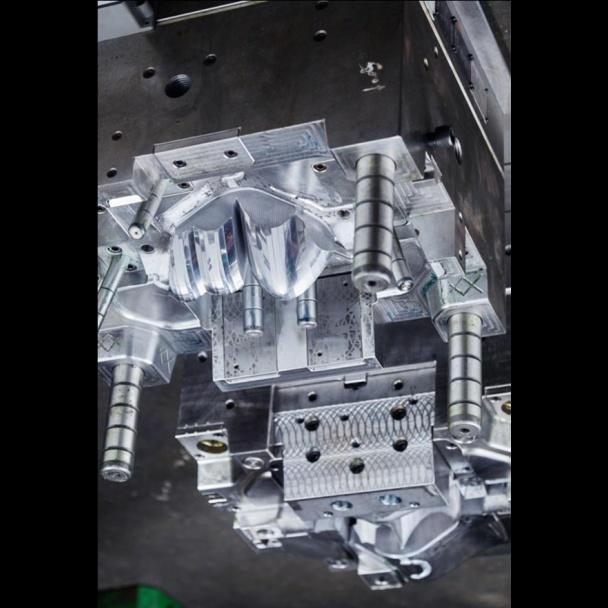hole: (160, 69, 190, 100)
